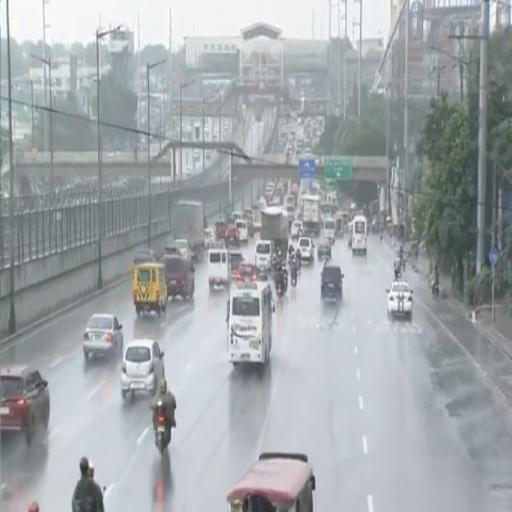car: (0, 365, 49, 444), (121, 339, 164, 399), (83, 314, 123, 360), (162, 255, 194, 299), (387, 280, 413, 321), (321, 265, 344, 300), (235, 262, 260, 282), (228, 250, 244, 277), (298, 237, 314, 263), (225, 226, 240, 248), (317, 239, 332, 261), (290, 220, 304, 239), (204, 229, 216, 249)
motorcycle: (156, 402, 171, 454), (275, 275, 285, 297), (432, 283, 439, 299), (276, 283, 283, 297), (394, 268, 401, 280), (291, 274, 296, 287)
truck: (171, 201, 204, 261), (261, 206, 288, 255), (301, 195, 321, 235)
